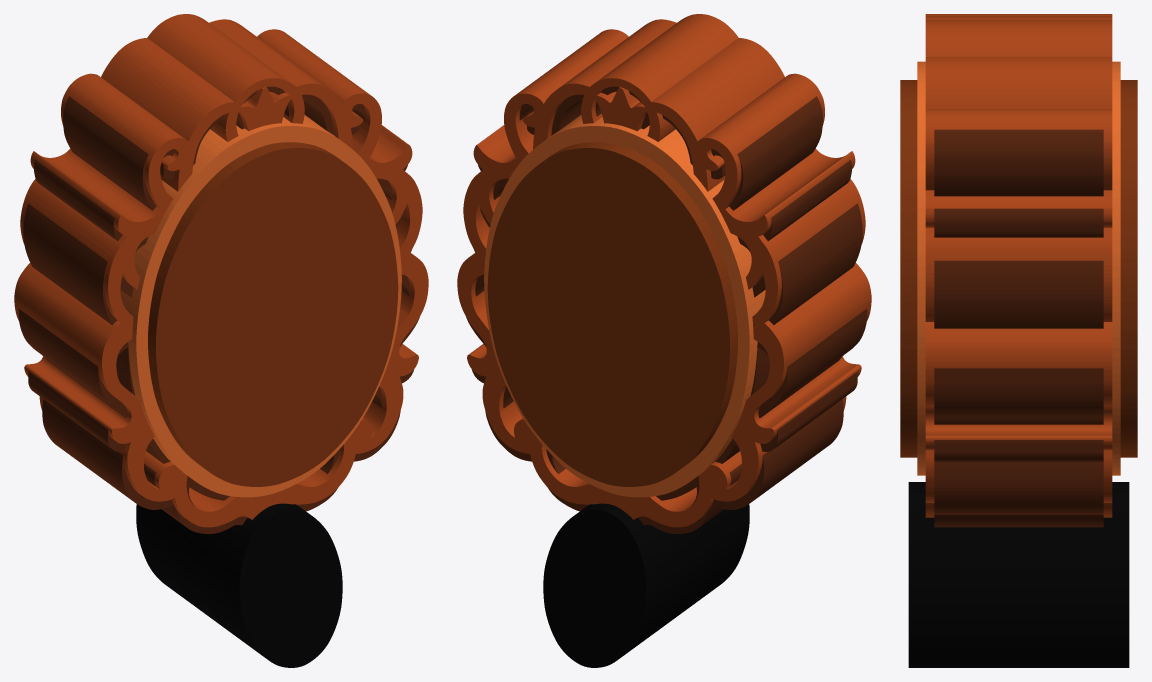
The picture shows the model from 3 angles, left to right: view 1: azimuth 30°, elevation 25°; view 2: azimuth 150°, elevation 25°; view 3: azimuth 270°, elevation 25°; orthographic projection. The views are drawn at different scales.
Visible parts, largest first — view 1: U+1FA9E_layer04_obj00, U+1FA9E_layer01_obj00, U+1FA9E_layer00_obj00, U+1FA9E_layer03_obj01, U+1FA9E_layer02_obj00, U+1FA9E_layer00_obj02; view 2: U+1FA9E_layer04_obj00, U+1FA9E_layer01_obj00, U+1FA9E_layer00_obj00, U+1FA9E_layer03_obj01, U+1FA9E_layer02_obj00, U+1FA9E_layer00_obj02; view 3: U+1FA9E_layer00_obj00, U+1FA9E_layer01_obj00, U+1FA9E_layer03_obj01, U+1FA9E_layer04_obj00, U+1FA9E_layer02_obj00.
Boxes of the visible parts, bbox=[...] form: U+1FA9E_layer04_obj00: bbox=[148, 142, 398, 486]; U+1FA9E_layer01_obj00: bbox=[14, 14, 428, 527]; U+1FA9E_layer00_obj00: bbox=[18, 86, 419, 533]; U+1FA9E_layer03_obj01: bbox=[136, 503, 342, 667]; U+1FA9E_layer02_obj00: bbox=[120, 115, 401, 497]; U+1FA9E_layer00_obj02: bbox=[116, 347, 229, 500]; U+1FA9E_layer04_obj00: bbox=[487, 142, 737, 486]; U+1FA9E_layer01_obj00: bbox=[457, 14, 871, 527]; U+1FA9E_layer00_obj00: bbox=[466, 86, 867, 533]; U+1FA9E_layer03_obj01: bbox=[543, 503, 749, 667]; U+1FA9E_layer02_obj00: bbox=[484, 115, 765, 497]; U+1FA9E_layer00_obj02: bbox=[656, 347, 769, 500]; U+1FA9E_layer00_obj00: bbox=[934, 129, 1103, 527]; U+1FA9E_layer01_obj00: bbox=[925, 14, 1112, 517]; U+1FA9E_layer03_obj01: bbox=[908, 482, 1129, 667]; U+1FA9E_layer04_obj00: bbox=[900, 80, 1137, 457]; U+1FA9E_layer02_obj00: bbox=[917, 61, 1120, 475].
Bounding box in the file's own units: 0.2368 × 0.4075 × 0.14.
